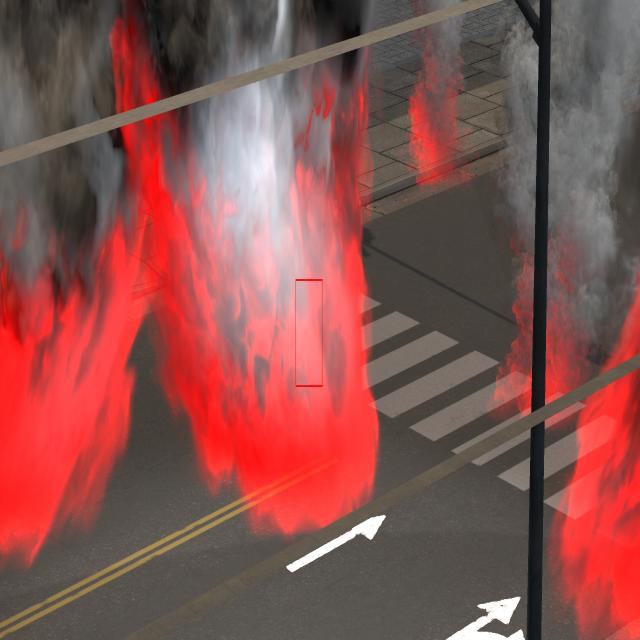Human: (294, 272, 328, 392)
